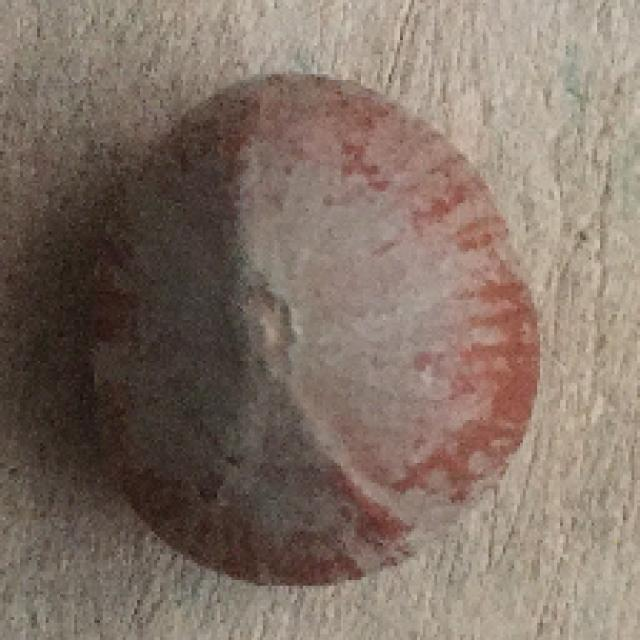QualityHazelnut: (92, 70, 532, 591)
